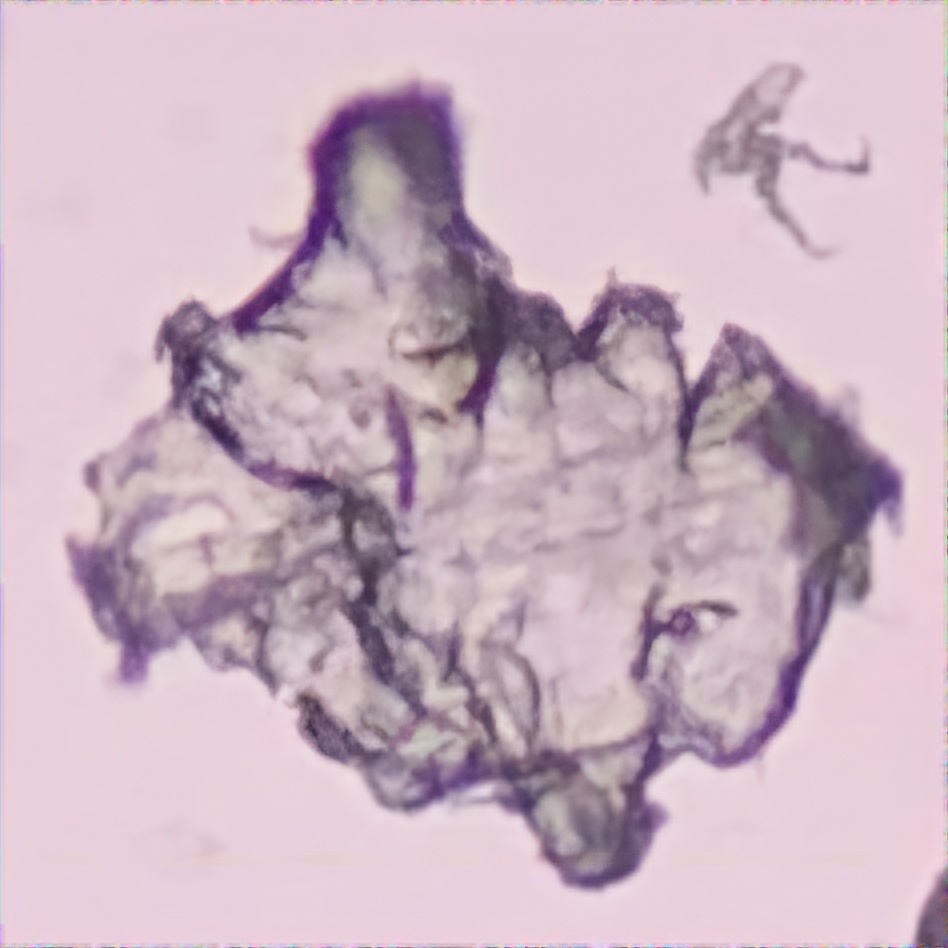microplastic: (46, 75, 927, 911), (678, 53, 891, 277)
